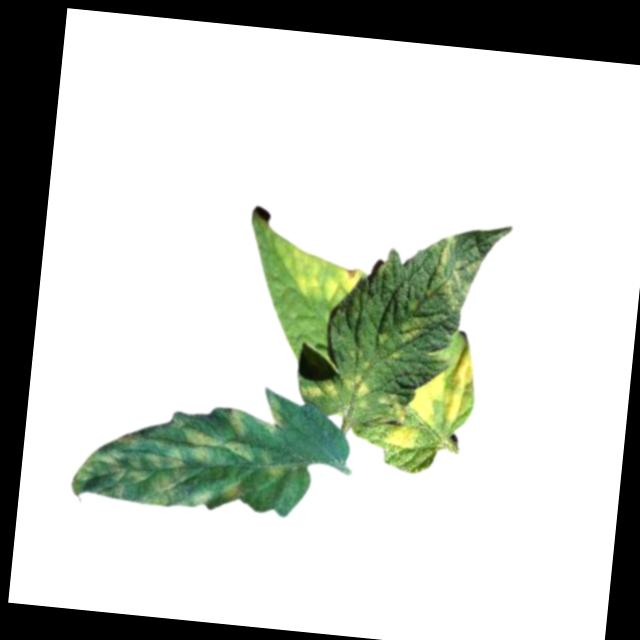Leaf_Mold: (69, 397, 294, 517), (381, 344, 483, 456), (267, 231, 370, 305), (426, 231, 485, 310), (301, 369, 371, 406)
